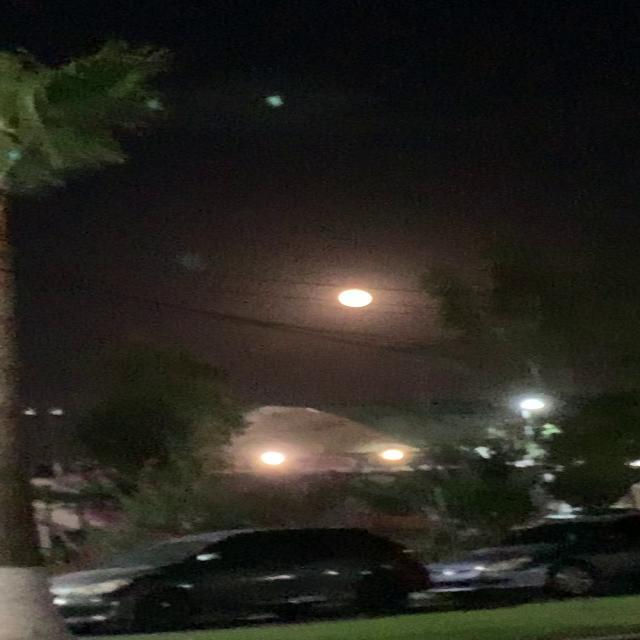moon: (318, 282, 380, 314)
